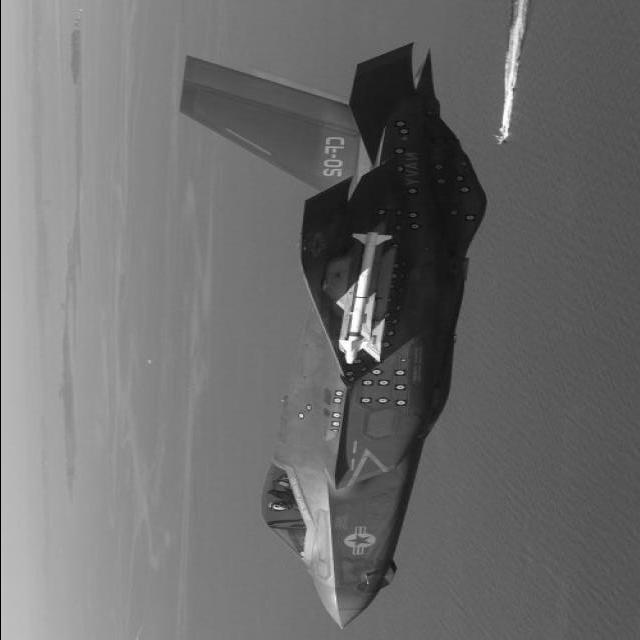Missile: (340, 230, 392, 368)
